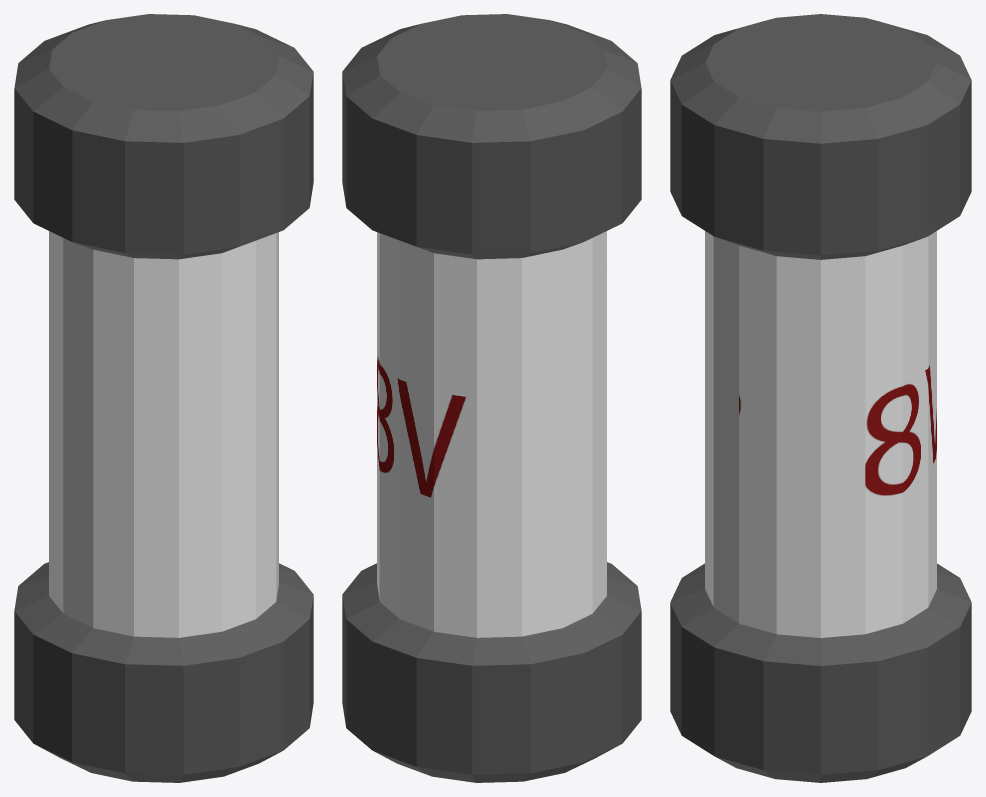
File: _use_1.fbx
The picture shows the model from 3 angles, left to right: view 1: azimuth 30°, elevation 25°; view 2: azimuth 150°, elevation 25°; view 3: azimuth 270°, elevation 25°; orthographic projection.
Parts seen in each view (by area): view 1: Cylinder.076; view 2: Cylinder.076; view 3: Cylinder.076.
Boxes of the visible parts, x1,y1,x2,y2 form: Cylinder.076: (14, 14, 313, 782); Cylinder.076: (342, 14, 641, 782); Cylinder.076: (670, 14, 971, 782).
Size of the model in its own units: 1.79 by 4.39 by 1.79.
